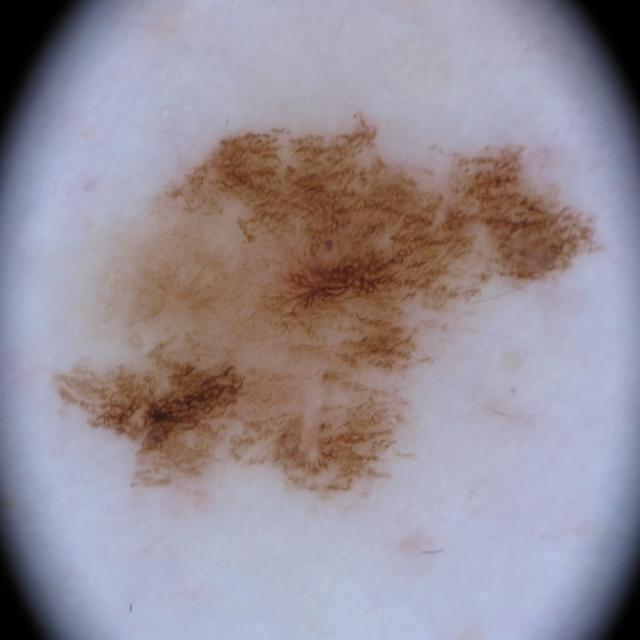Benign: (46, 114, 606, 511)
